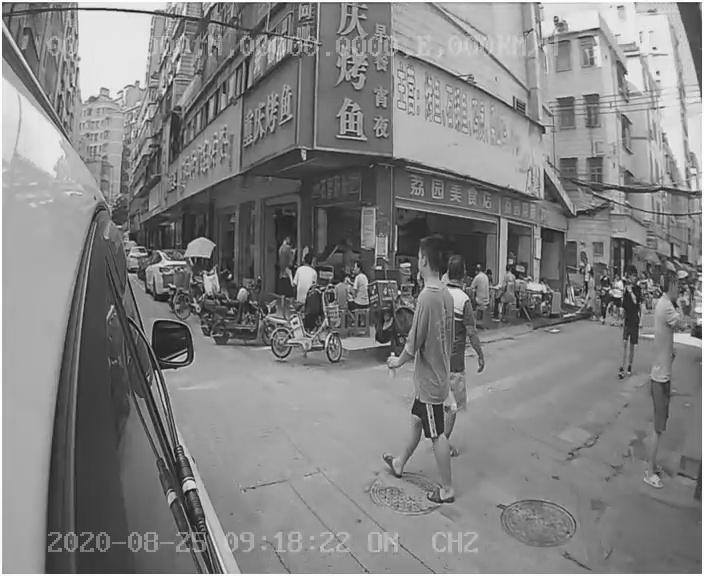person: (379, 238, 491, 511)
